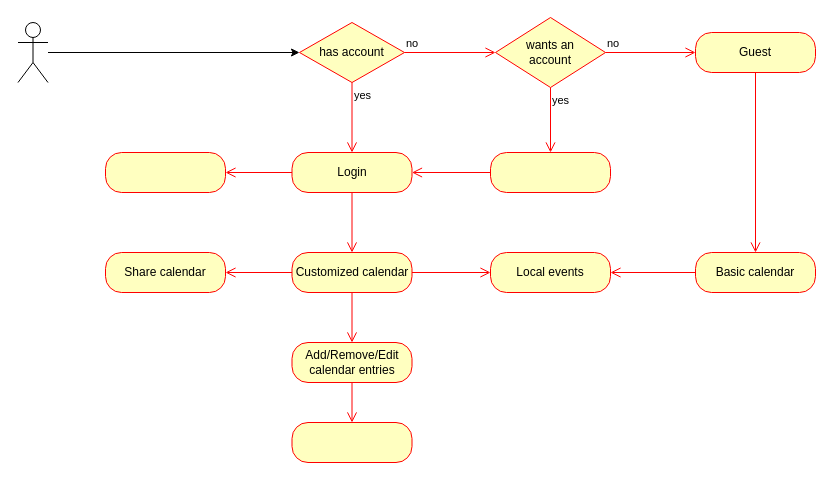
This 833x480 diagram has some shape labels left out. Each missing label, with the centre of its shape:
"Make entries public/private" belongs at pixel 351 442.
"Manage Friends" belongs at pixel 165 172.
"Register" belongs at pixel 550 172.
"User" belongs at pixel 32 52.
